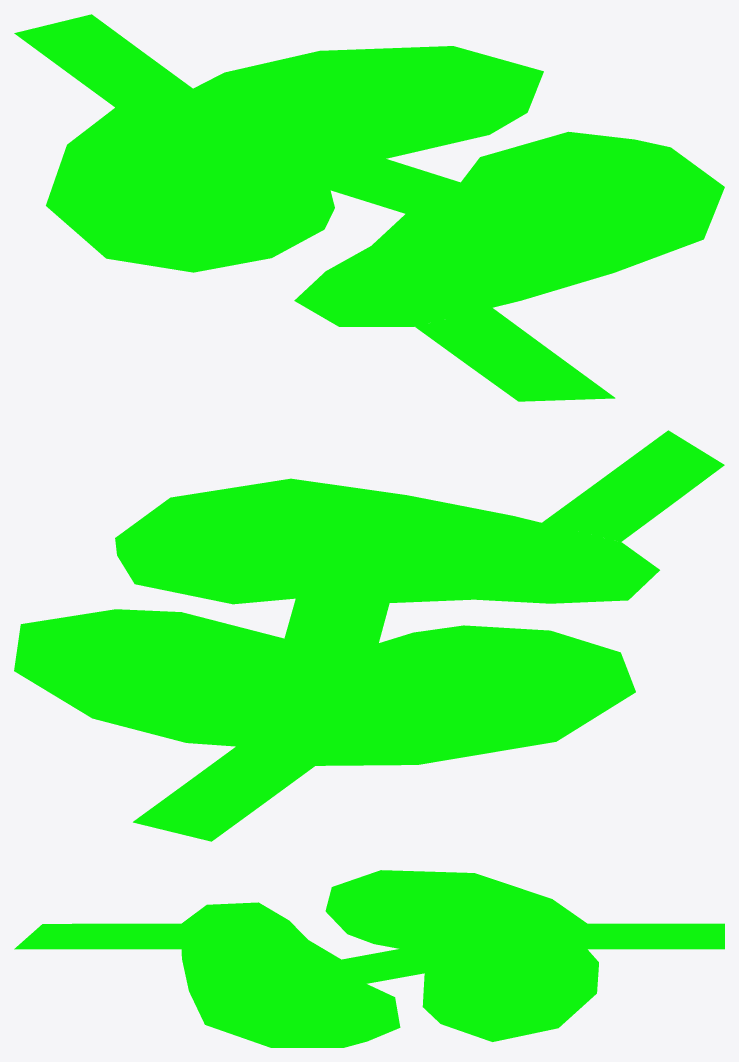
File: s02a_ib2-floor.glb
The picture shows the model from 3 angles, top to bottom: view 1: azimuth 30°, elevation 25°; view 2: azimuth 150°, elevation 25°; view 3: azimuth 270°, elevation 25°; orthographic projection. The views are drawn at different scales.
Visible parts, largest first — view 1: collision_floor-colonly; view 2: collision_floor-colonly; view 3: collision_floor-colonly.
Boxes of the visible parts, x1,y1,x2,y2 form: collision_floor-colonly: (14, 14, 724, 401); collision_floor-colonly: (14, 430, 724, 841); collision_floor-colonly: (14, 870, 724, 1047).
Size of the model in its own units: 41.47 by 0 by 70.11.
